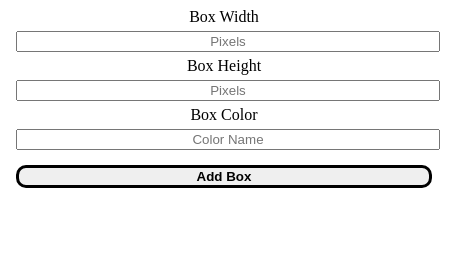
Scenario: tests for non-number height
This screenshot has width=457, height=274.
Expected: the text "Height Must Be A Positive Number" is not shown
Type "one" into the field labelled "Box Height" at coordinates (228, 90), box 16,80 -> 440,101
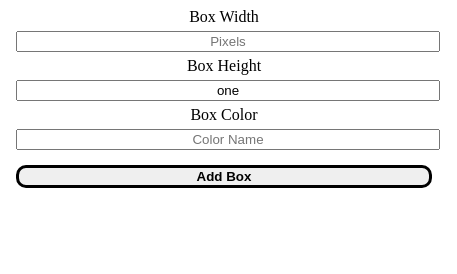
Click the button "Add Box" at coordinates (224, 176), box 16,165 -> 432,188
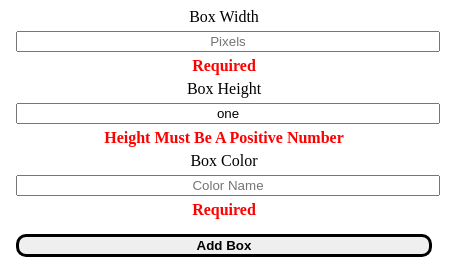
Expected: the text "Height Must Be A Positive Number" is shown, 104,129 -> 344,146
